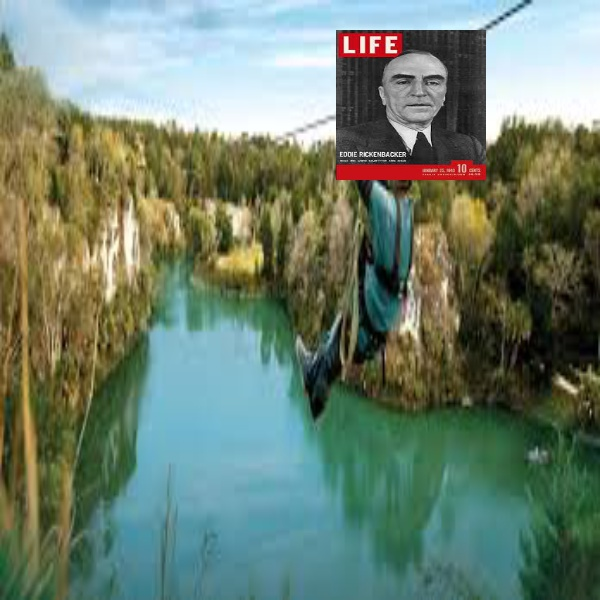time_cover: (330, 16, 494, 180)
